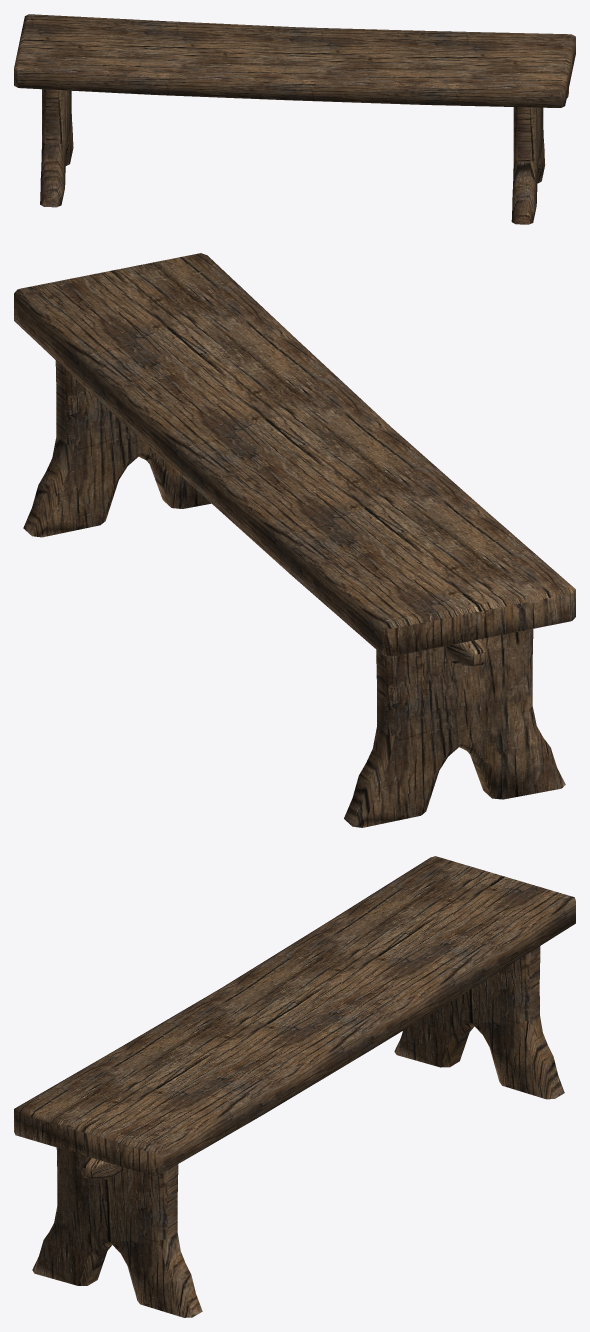
File: Bench.FBX
3 renders of one model, top to bottom at view 1: azimuth 30°, elevation 25°; view 2: azimuth 150°, elevation 25°; view 3: azimuth 270°, elevation 25°, orthographic. The views are drawn at different scales.
Parts seen in each view (by area): view 1: Bench; view 2: Bench; view 3: Bench.
Part boxes in pixels (<box>): Bench: <box>14,14,575,224</box>; Bench: <box>14,253,575,827</box>; Bench: <box>14,856,575,1317</box>.
Bounding box in the file's own units: 0.9232 × 0.2626 × 0.7419.
Materials: 1 (1 with a texture image).
